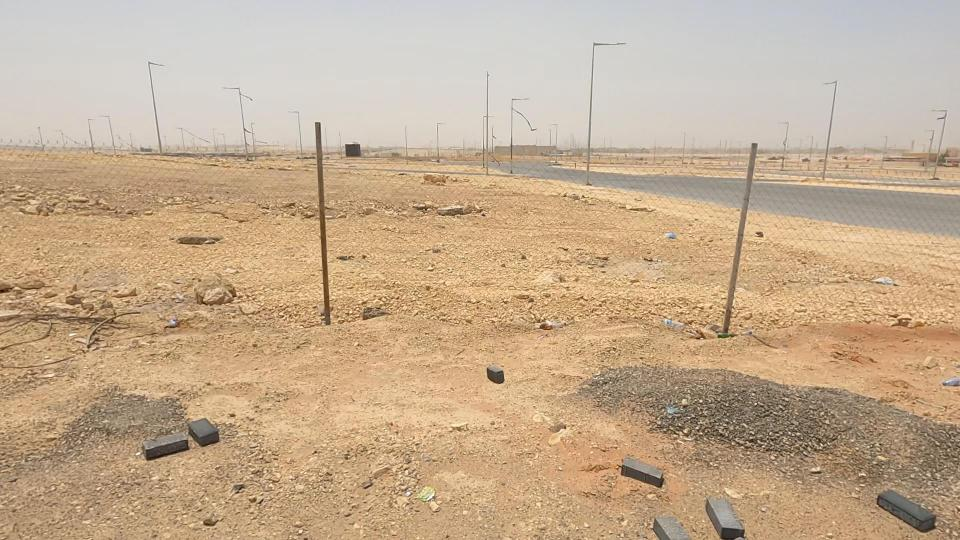GARBAGE: (128, 295, 231, 368), (845, 252, 930, 320), (638, 297, 704, 351), (643, 205, 699, 266)
